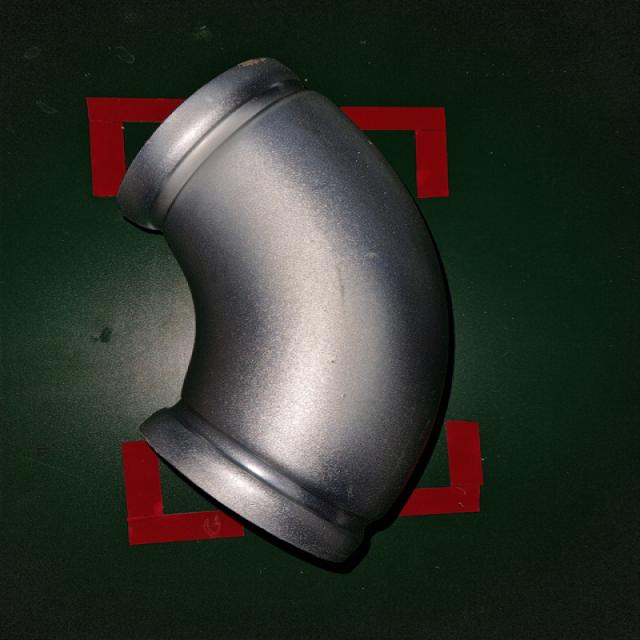Normal: (94, 55, 466, 574)
